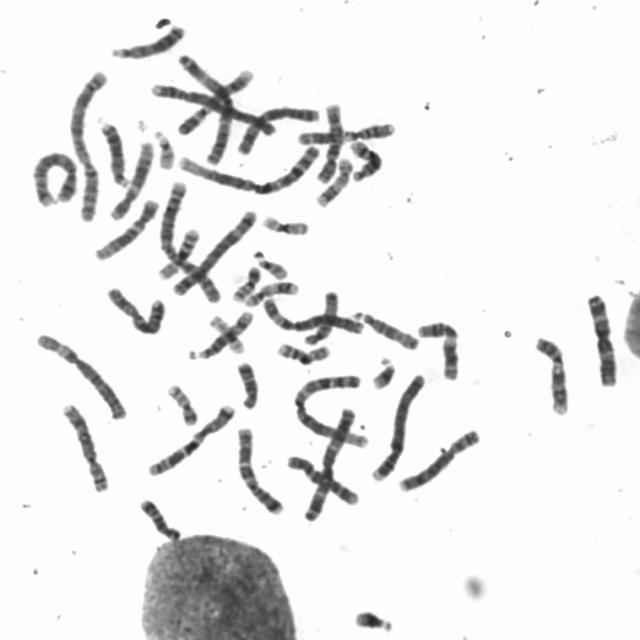A1: (173, 140, 323, 196), (288, 368, 371, 450)
A2: (156, 176, 225, 304), (64, 64, 109, 224)
A3: (298, 403, 359, 524), (582, 289, 622, 388)
B4: (146, 77, 281, 139), (367, 368, 428, 483)
B5: (168, 204, 260, 297), (29, 148, 82, 209)
C10: (283, 450, 361, 507), (313, 98, 347, 185)
C11: (413, 316, 462, 382), (293, 118, 398, 146)
C12: (91, 194, 162, 262), (105, 137, 156, 222)
C6: (30, 327, 130, 421), (258, 292, 368, 337)
C7: (143, 399, 238, 478), (231, 422, 287, 516)
C8: (393, 424, 484, 494), (56, 398, 112, 493)
C9: (174, 64, 259, 137), (530, 332, 572, 416)
D13: (106, 20, 188, 61), (95, 116, 132, 188)
D14: (183, 306, 257, 362), (345, 136, 384, 182)
D15: (350, 305, 422, 352), (299, 286, 340, 346)
E16: (154, 223, 202, 280), (272, 338, 333, 365)
E17: (312, 153, 354, 208), (240, 276, 300, 308)
E18: (135, 494, 182, 542), (232, 357, 261, 410)
F19: (208, 313, 246, 357), (258, 210, 312, 237)
F20: (163, 379, 200, 427), (228, 261, 263, 303)
G21: (349, 604, 397, 634), (368, 352, 398, 391)
G22: (249, 247, 291, 281), (150, 126, 177, 170)
X: (234, 100, 322, 156), (102, 281, 170, 336)
